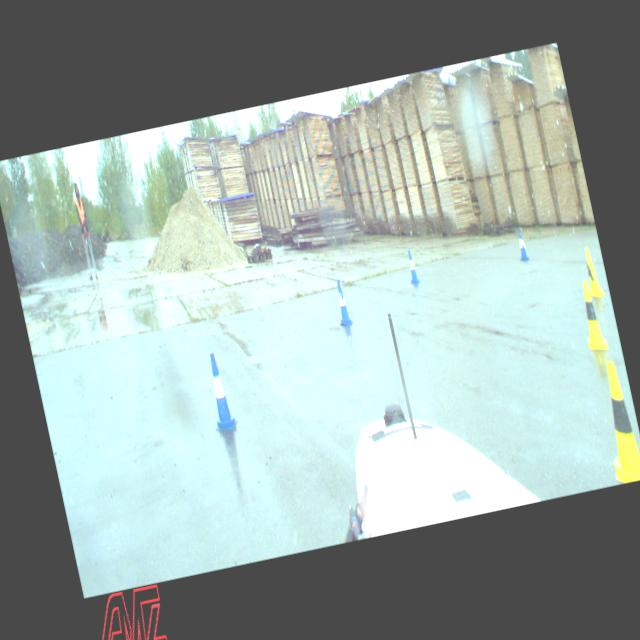blue_cone: (200, 350, 238, 432), (330, 278, 354, 327), (404, 248, 421, 284), (514, 228, 530, 262)
yellow_cone: (591, 357, 640, 483), (574, 277, 609, 354), (580, 245, 606, 299)
